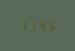four: (36, 19, 44, 31)
one: (18, 19, 26, 30), (27, 19, 35, 30)
six: (45, 20, 53, 31)
